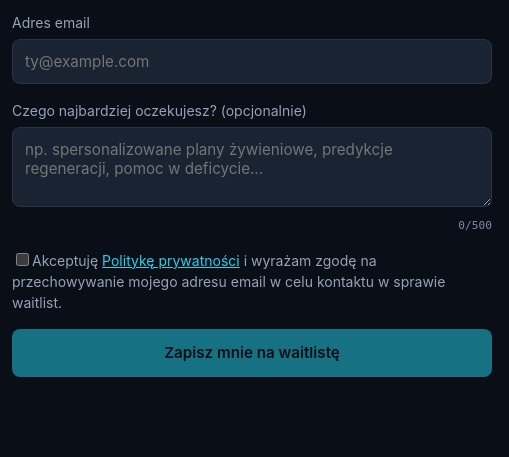
WaitlistForm › shows network banner on ApiError -1
The image size is (509, 457).
Type "a@b.pl" into the field labelled "Adres email" at (252, 62), box [12,39,492,84]
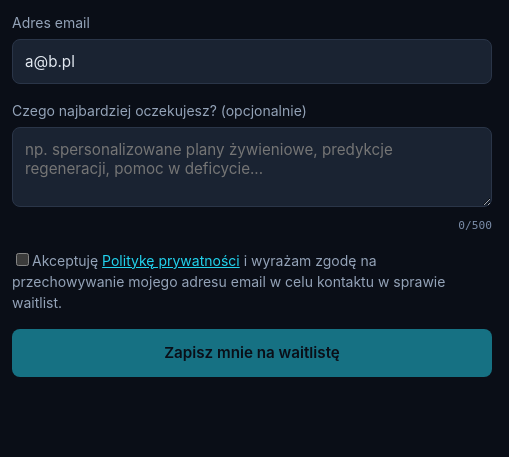
Click the checkbox at (22, 260), box [16,253,29,266]
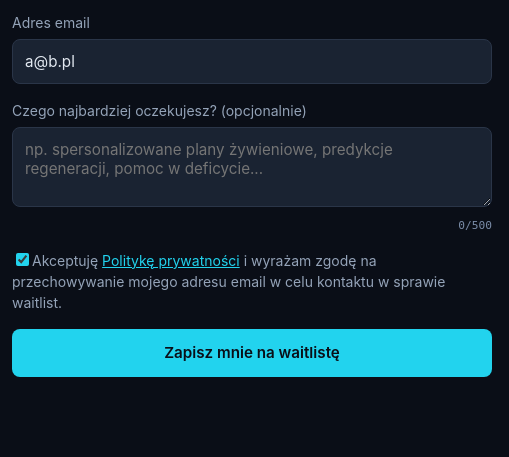
Click the button "Zapisz mnie na waitlistę" at (252, 353), box [12,329,492,377]
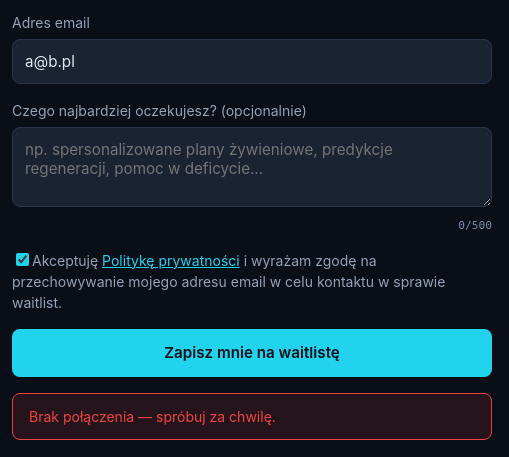
Expected: the text "Brak połączenia — spróbuj za chwilę." is shown, [12,393,492,440]
